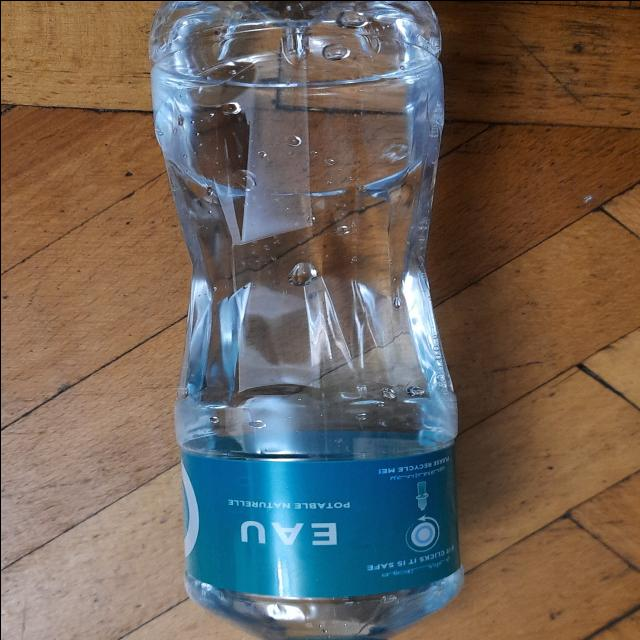plastic: (28, 0, 567, 640)
